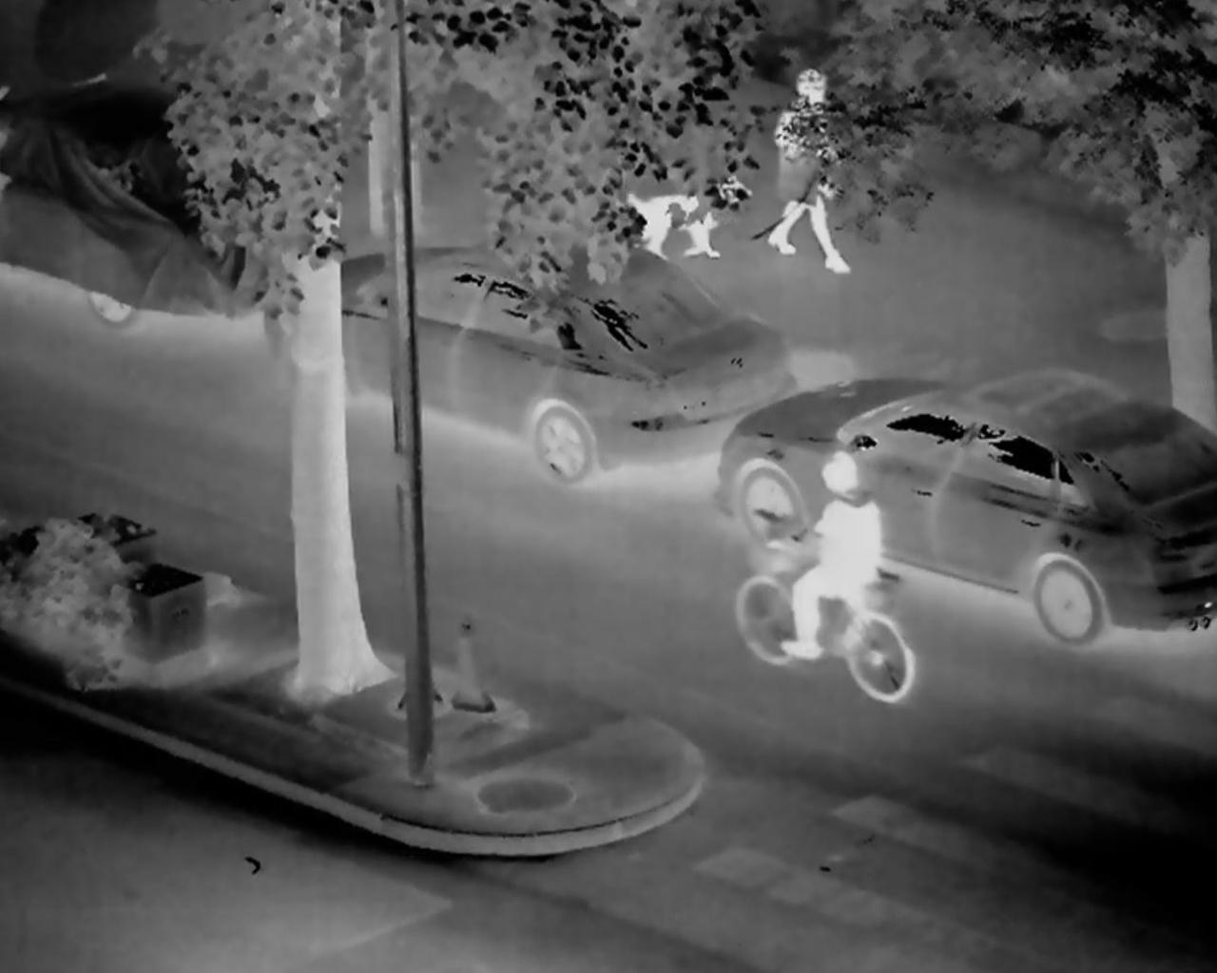person: (762, 449, 886, 679), (750, 60, 860, 290)
